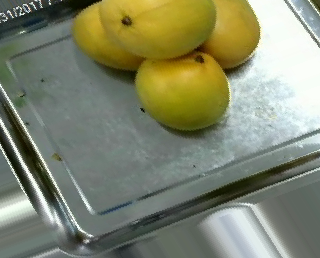Mango: (133, 48, 235, 132), (95, 0, 226, 61), (67, 6, 155, 73), (181, 0, 263, 68)
